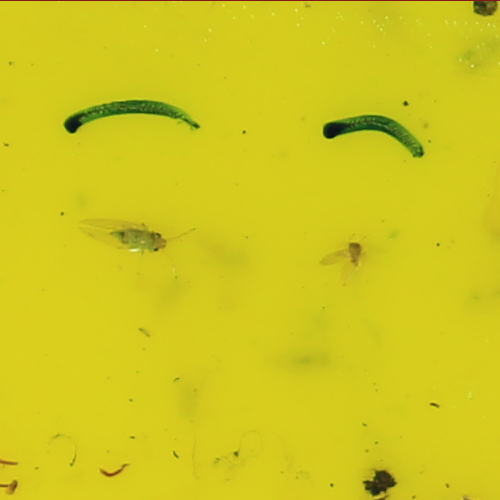Glycaspis: (112, 225, 170, 256)
Platyobria: (344, 243, 362, 265)
